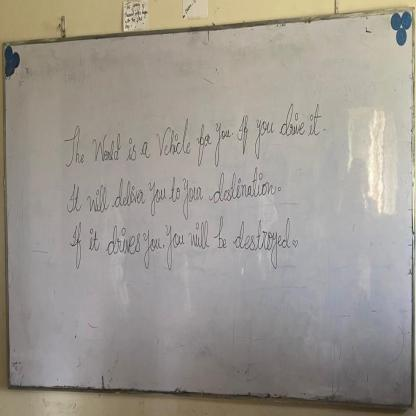Handwritten text: (60, 94, 323, 167), (66, 217, 290, 280), (50, 167, 285, 215)
